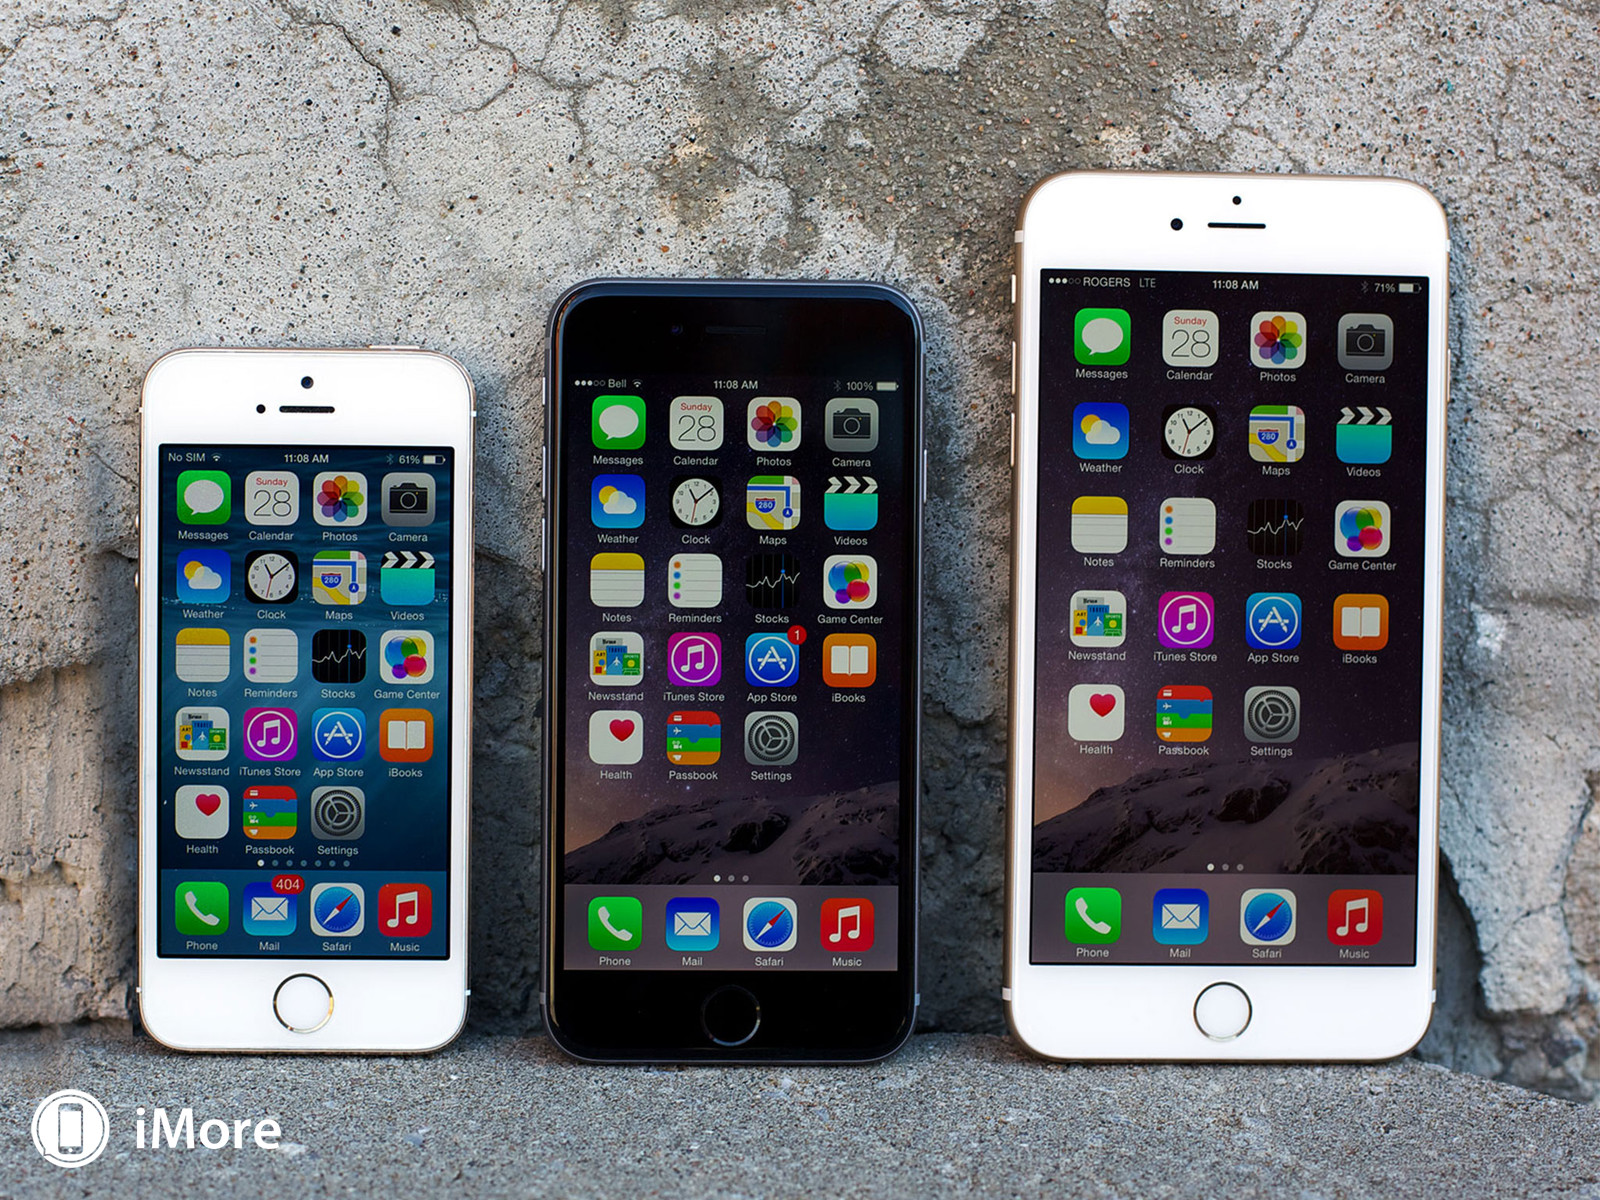smartphone: (1002, 168, 1453, 1061), (540, 277, 929, 1066), (135, 344, 477, 1056)
